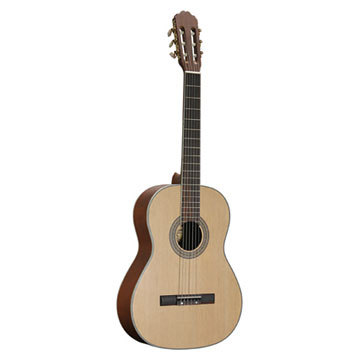guitar: (118, 12, 243, 349)
